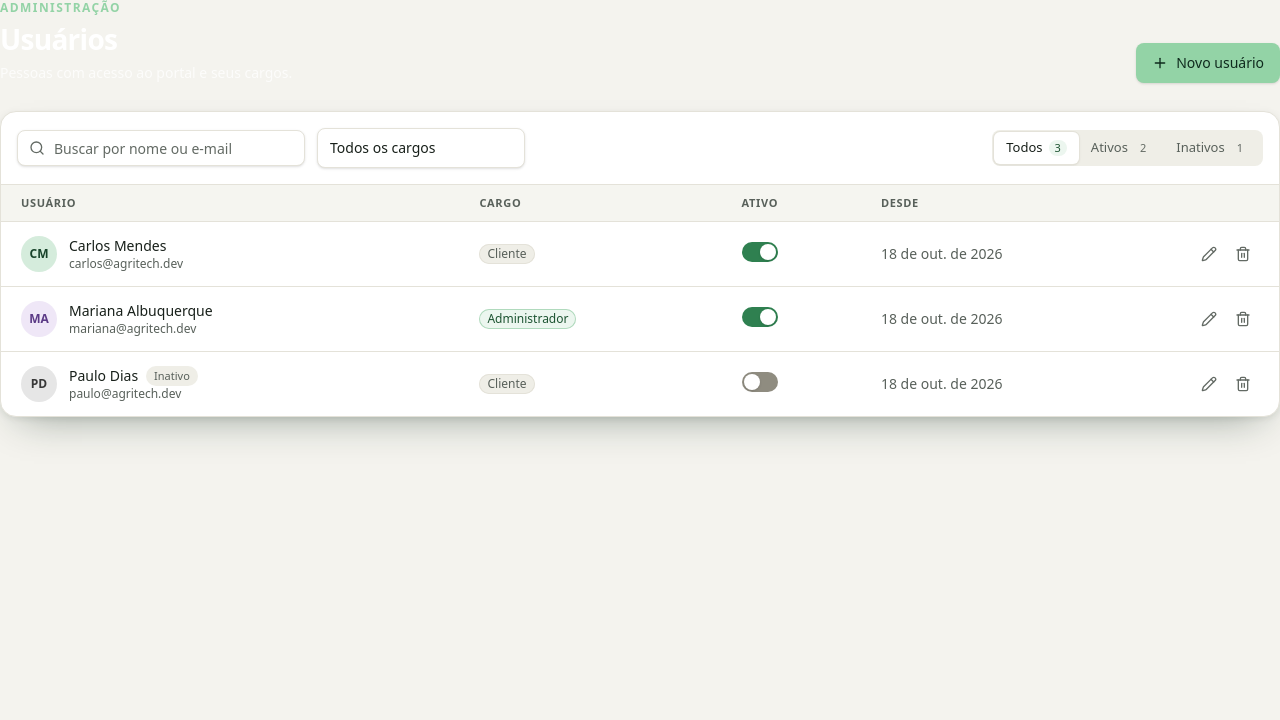
Test: UsersPage › edita sem mexer no e-mail, desativa e exclui
Click the button named "Editar Carlos Mendes": click(1209, 254) x1=1193 y1=238 x2=1225 y2=270
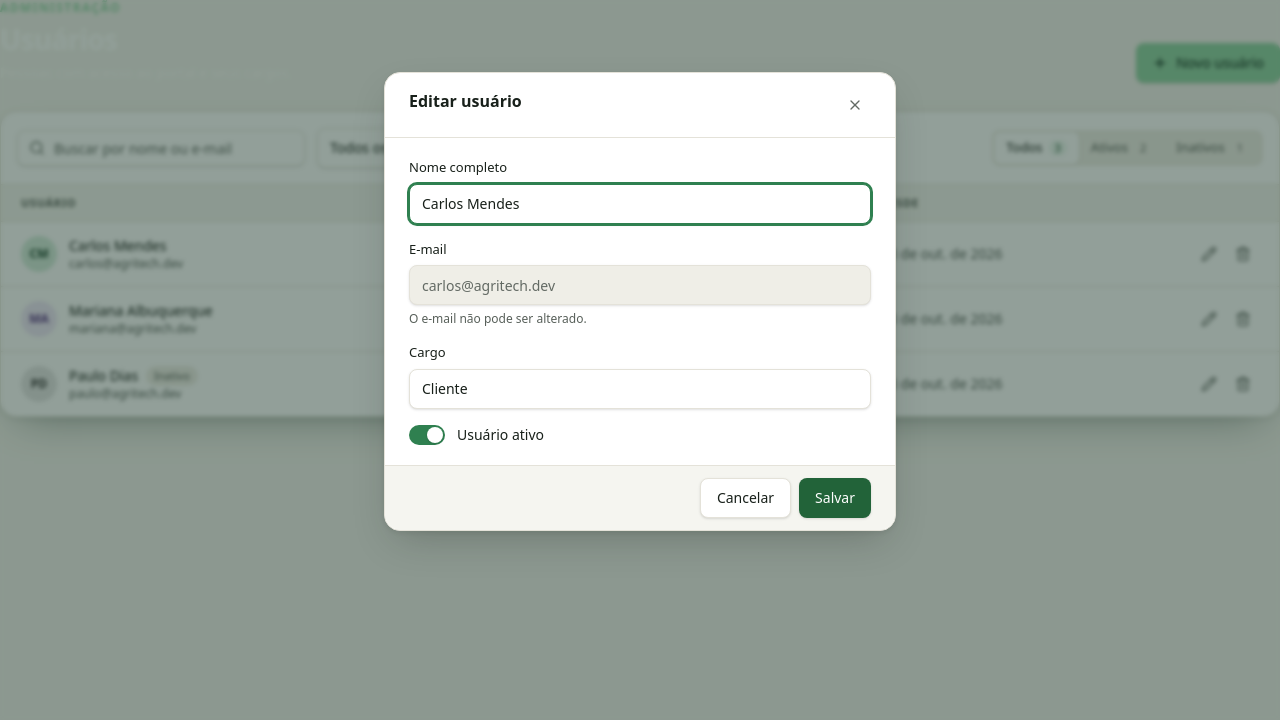
Expected: the field labelled "E-mail" is disabled, x1=409 y1=265 x2=871 y2=305
Click the button "Salvar": click(835, 498) x1=799 y1=478 x2=871 y2=518
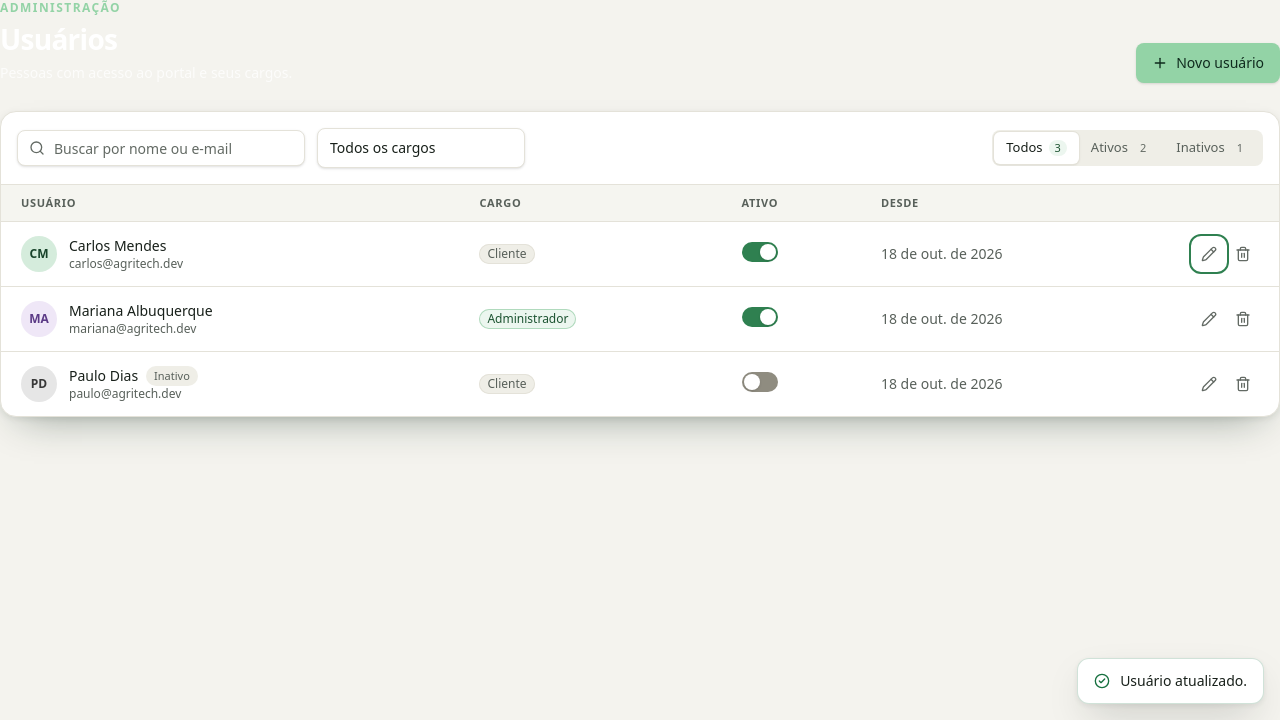
Expected: the text "Usuário atualizado." is shown, x1=1077 y1=658 x2=1264 y2=704
Click the switch named "Carlos Mendes ativo": click(760, 252) x1=742 y1=242 x2=778 y2=262
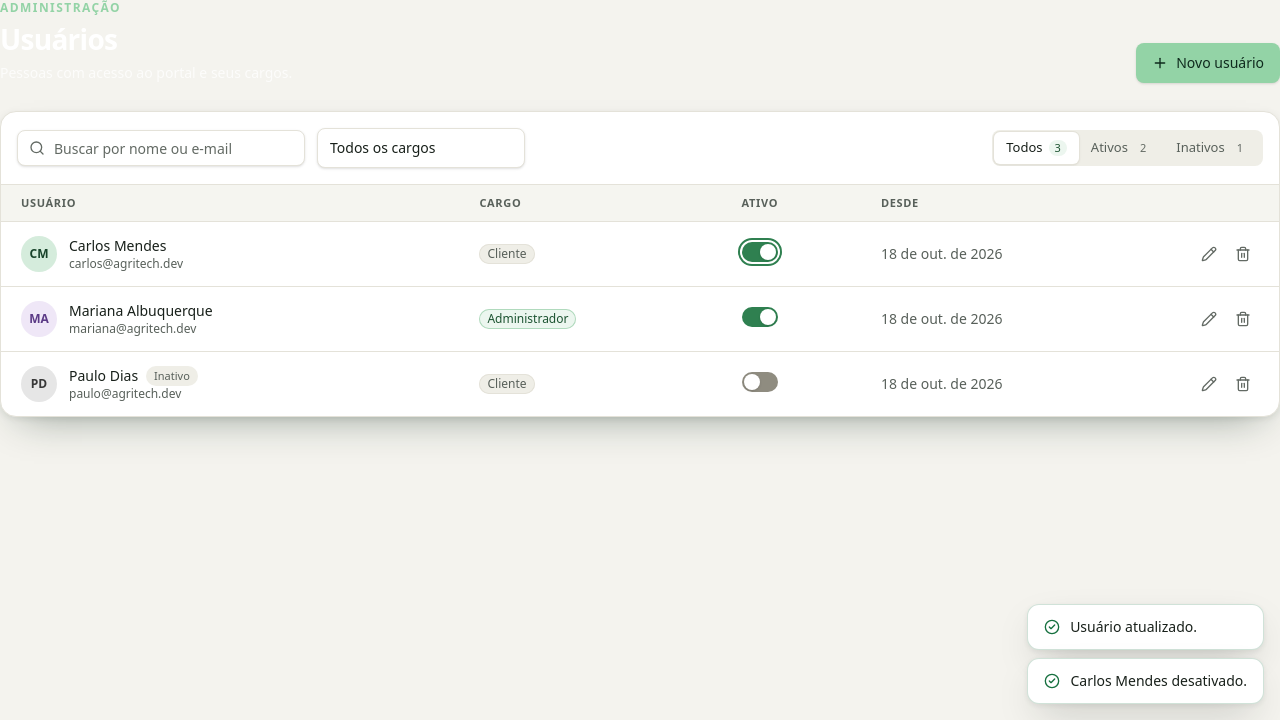
Click the button named "Excluir Paulo Dias": click(1243, 384) x1=1227 y1=368 x2=1259 y2=400
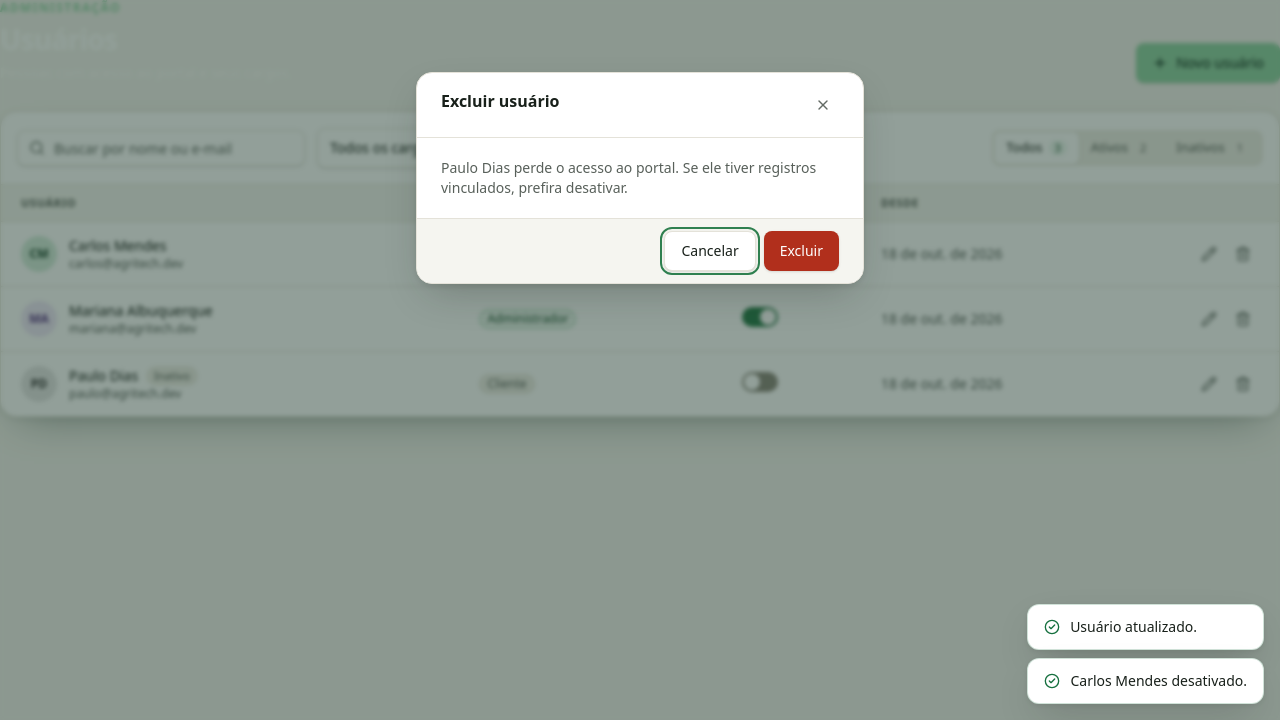
Click the button "Excluir": click(801, 251) x1=764 y1=231 x2=839 y2=271
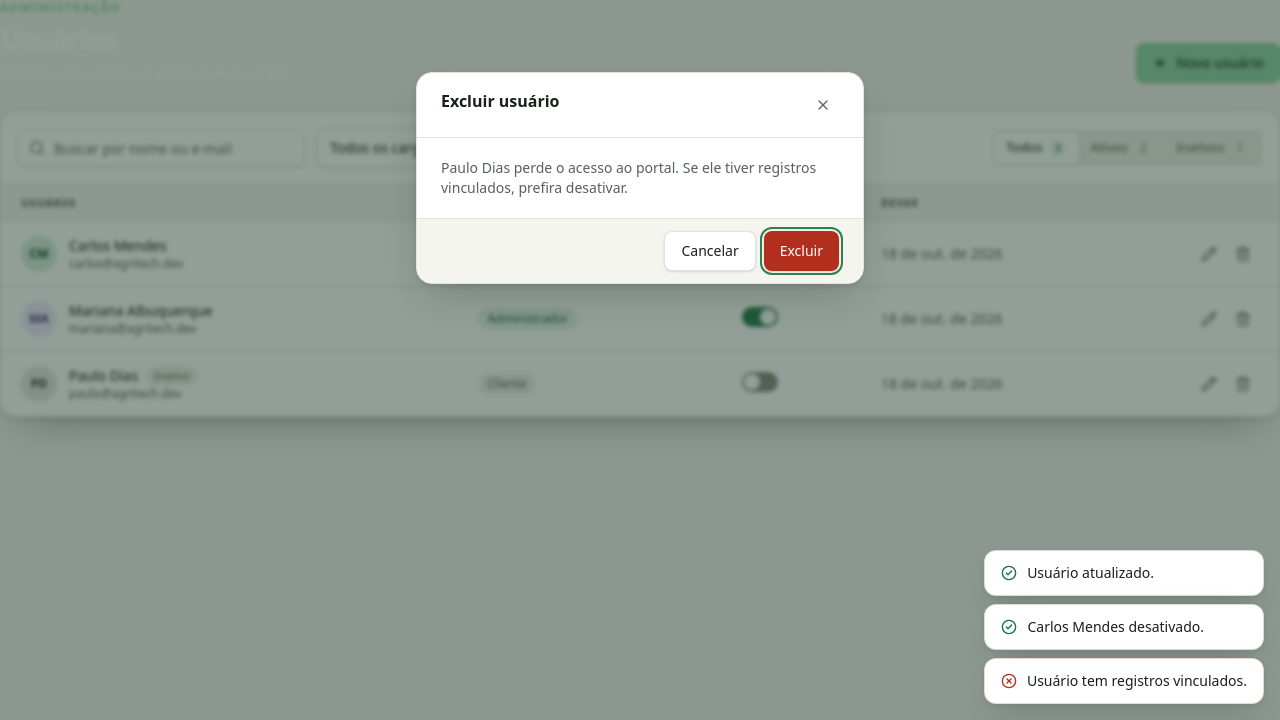
Expected: the text "Usuário tem registros vinculados." is shown, x1=984 y1=658 x2=1264 y2=704
